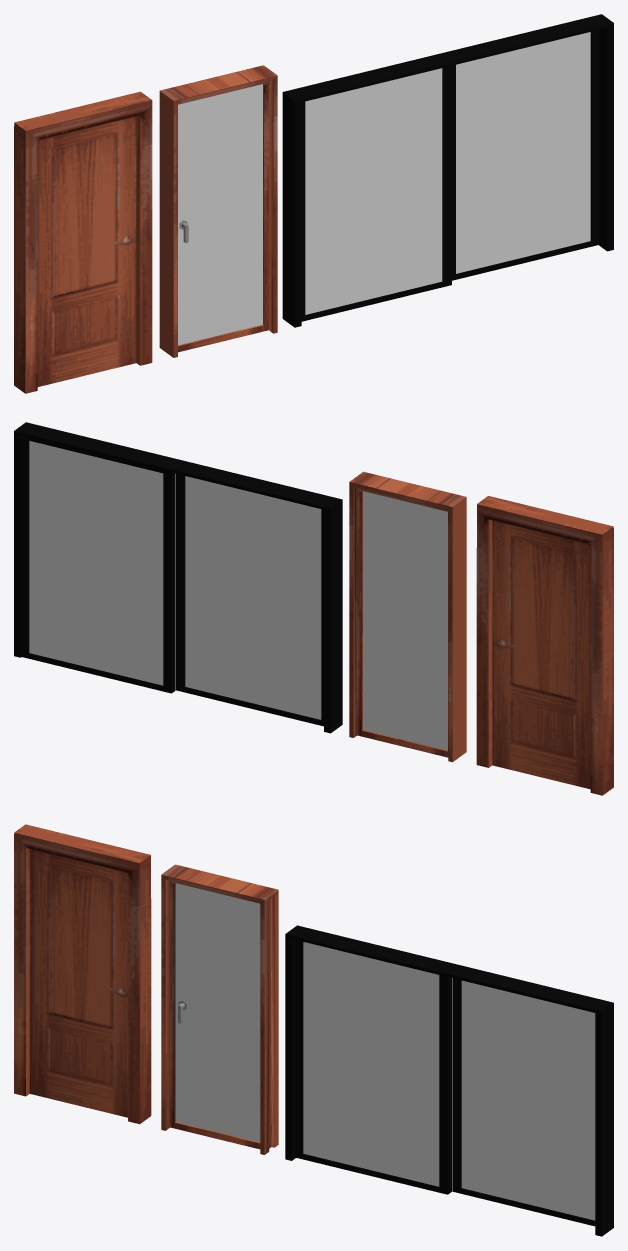
File: Puertas Casa.fbx
3 views of the same model, one above another, from view 1: azimuth 30°, elevation 25°; view 2: azimuth 150°, elevation 25°; view 3: azimuth 330°, elevation 25° (orthographic).
Visible parts, largest first — view 1: Ventanal Izquierdo Casa, Ventanal Derecho Casa, Puerta Casa, Puerta Baño Casa, Marco Puerta Casa, Marco Ventanal Casa, Marco Puerta Baño; view 2: Ventanal Derecho Casa, Ventanal Izquierdo Casa, Puerta Casa, Puerta Baño Casa, Marco Puerta Casa, Marco Ventanal Casa, Marco Puerta Baño; view 3: Ventanal Izquierdo Casa, Ventanal Derecho Casa, Puerta Casa, Puerta Baño Casa, Marco Puerta Casa, Marco Ventanal Casa, Marco Puerta Baño.
Part boxes in pixels (left/top/right/bottom): Ventanal Izquierdo Casa: left=301, top=66, right=451, bottom=321; Ventanal Derecho Casa: left=452, top=30, right=599, bottom=280; Puerta Casa: left=37, top=116, right=136, bottom=386; Puerta Baño Casa: left=178, top=81, right=268, bottom=352; Marco Puerta Casa: left=14, top=91, right=152, bottom=393; Marco Ventanal Casa: left=282, top=14, right=613, bottom=327; Marco Puerta Baño: left=159, top=65, right=277, bottom=357; Ventanal Derecho Casa: left=20, top=436, right=175, bottom=693; Ventanal Izquierdo Casa: left=176, top=473, right=323, bottom=726; Puerta Casa: left=492, top=520, right=590, bottom=789; Puerta Baño Casa: left=357, top=487, right=448, bottom=757; Marco Puerta Casa: left=476, top=496, right=613, bottom=795; Marco Ventanal Casa: left=14, top=422, right=342, bottom=733; Marco Puerta Baño: left=349, top=471, right=466, bottom=762; Ventanal Izquierdo Casa: left=295, top=940, right=451, bottom=1194; Ventanal Derecho Casa: left=452, top=978, right=595, bottom=1226; Puerta Casa: left=29, top=849, right=127, bottom=1117; Puerta Baño Casa: left=170, top=881, right=271, bottom=1149; Marco Puerta Casa: left=14, top=824, right=151, bottom=1124; Marco Ventanal Casa: left=285, top=925, right=613, bottom=1236; Marco Puerta Baño: left=161, top=864, right=278, bottom=1154.
Size of the model in its own units: 9.32 by 3.99 by 0.3889.
